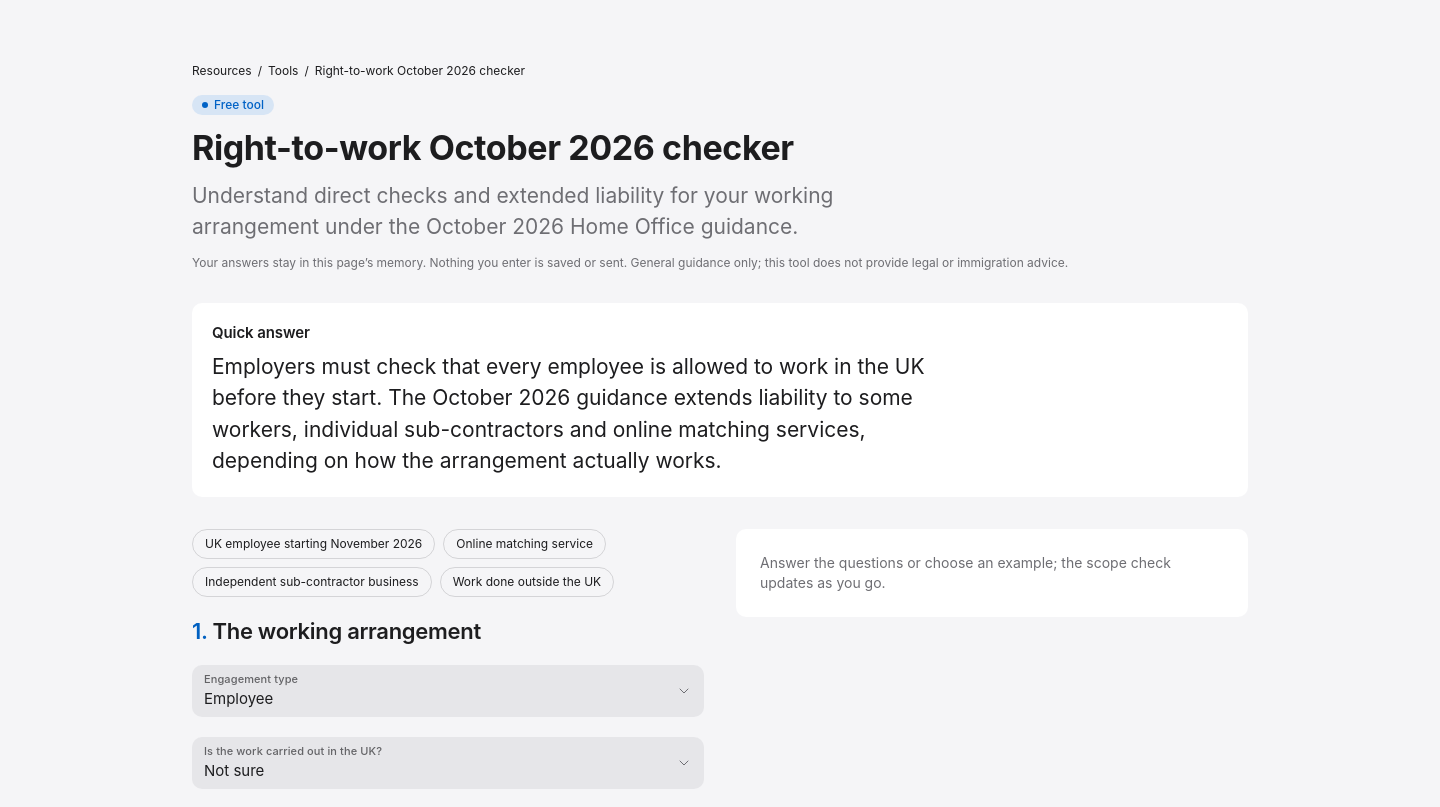
public right-to-work calculator › checks local answers without network or storage writes and resets
Select "Yes" in the dropdown labelled "Is the work carried out in the UK?" at x=448, y=763, box 192,737 -> 704,789
(page scrolled)
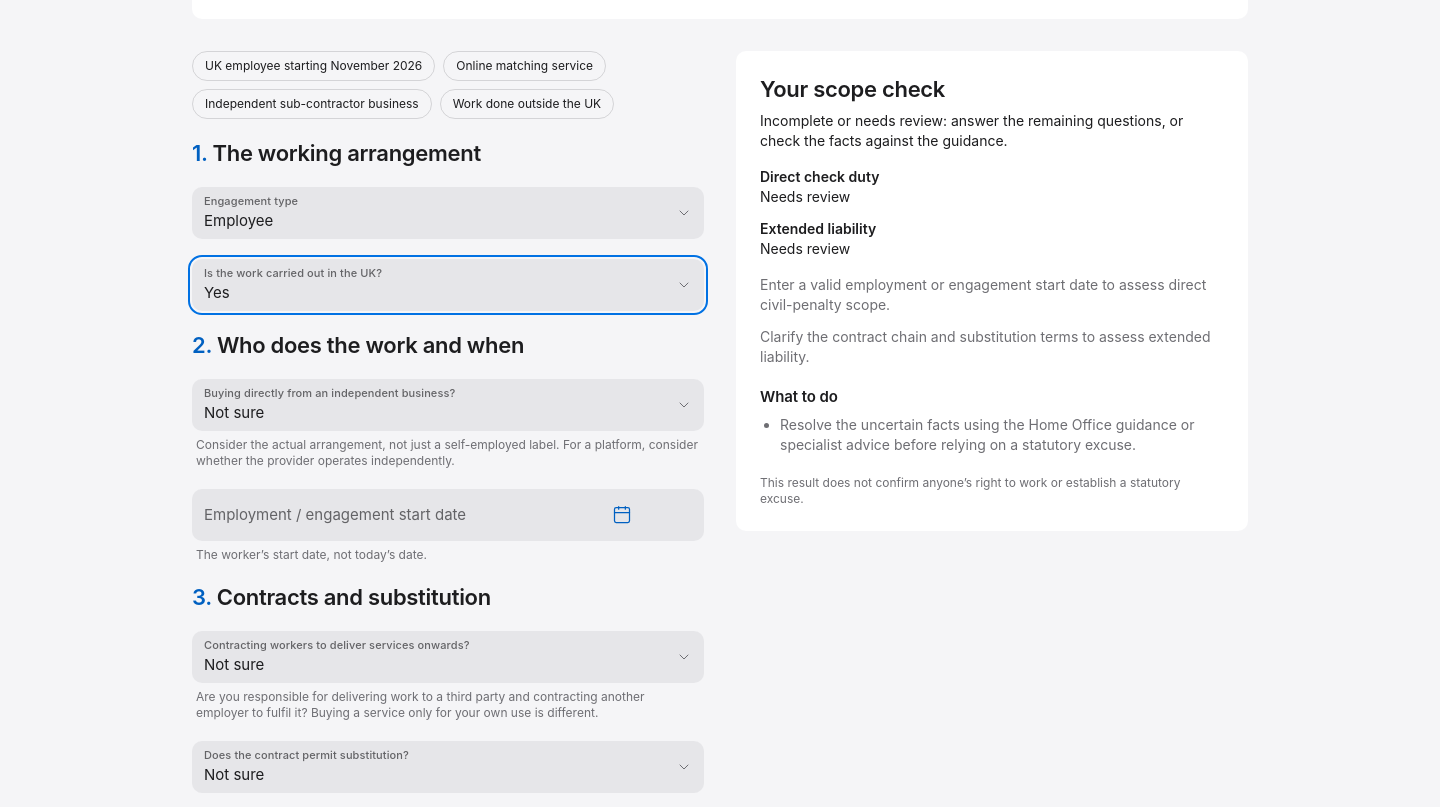
Select "No" in the dropdown labelled "Buying directly from an independent business?" at x=448, y=405, box 192,379 -> 704,431
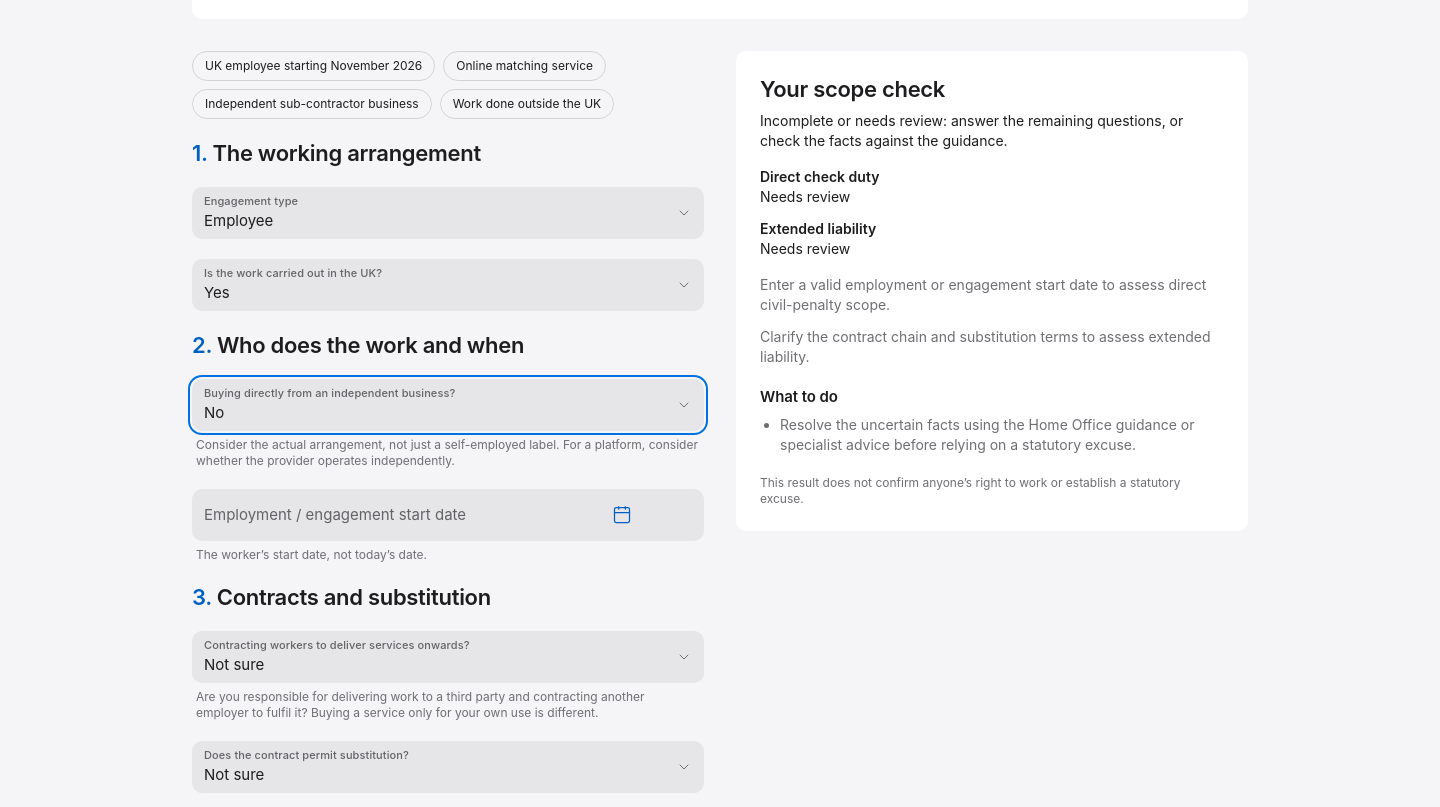
Type "2026-10-01" into the field labelled "Employment / engagement start date".
click(398, 515); type("2026-10-01")  # box 204,489 -> 592,541
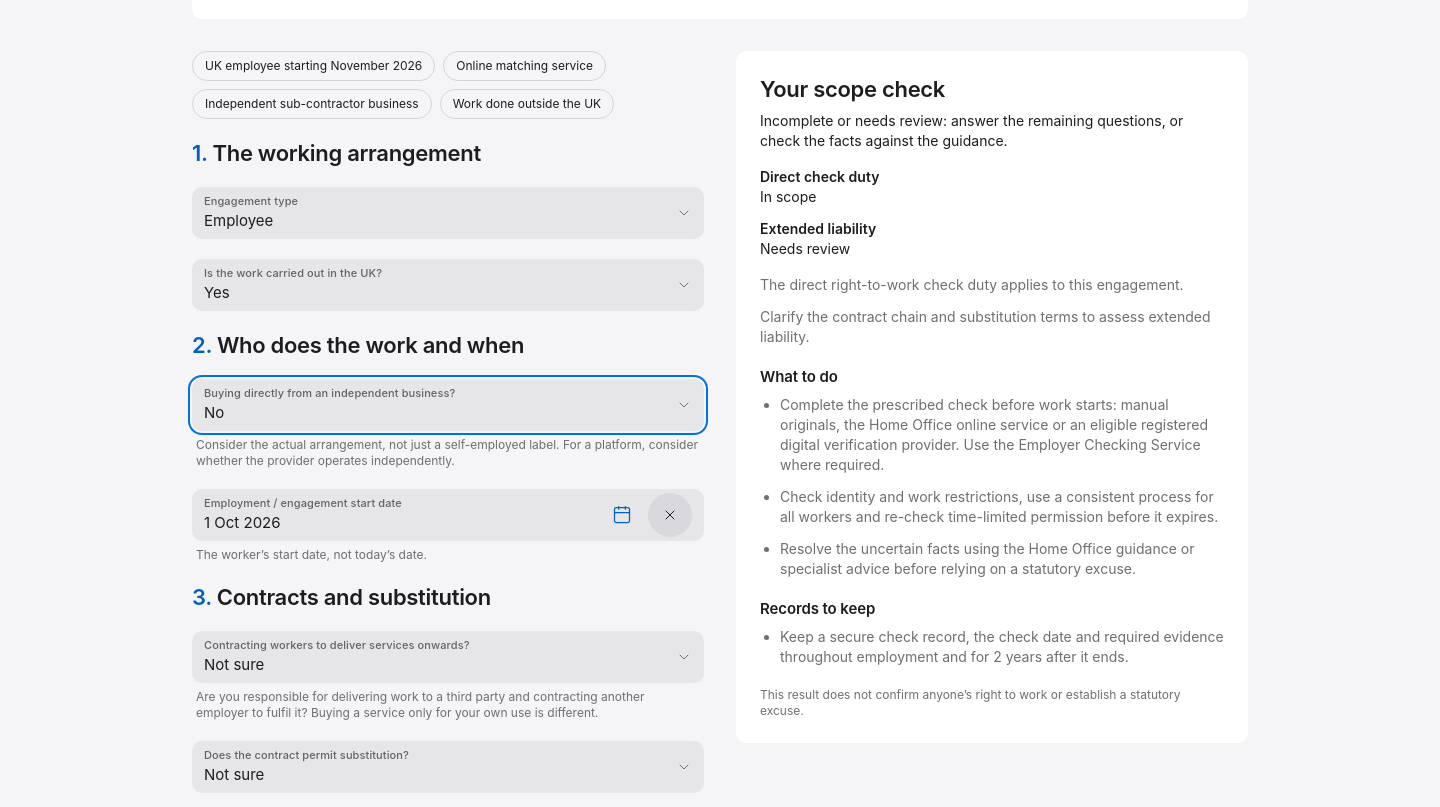
Select "No" in the dropdown labelled "Contracting workers to deliver services onwards?" at x=448, y=657, box 192,631 -> 704,683
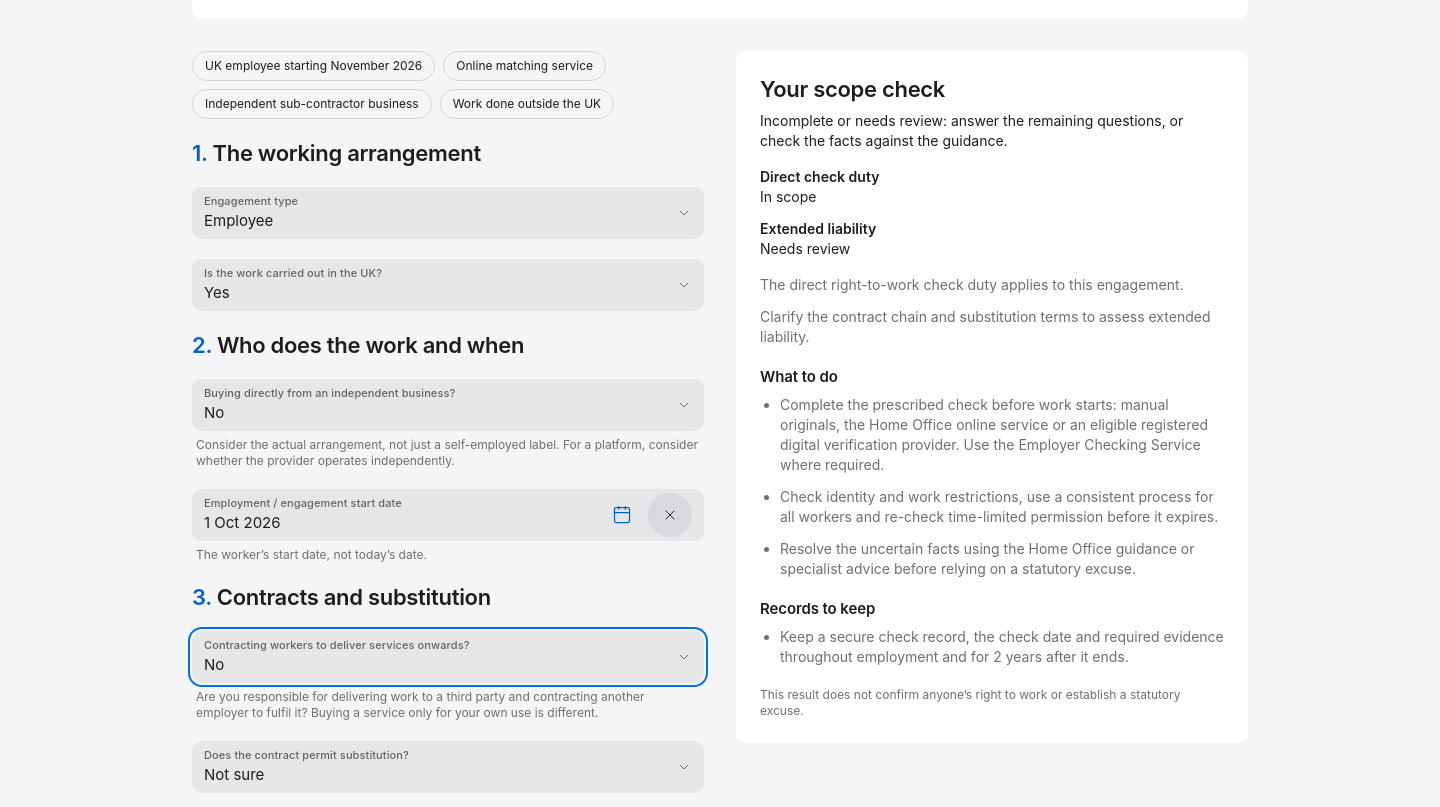
Select "No" in the dropdown labelled "Does the contract permit substitution?" at x=448, y=767, box 192,741 -> 704,793
(page scrolled)
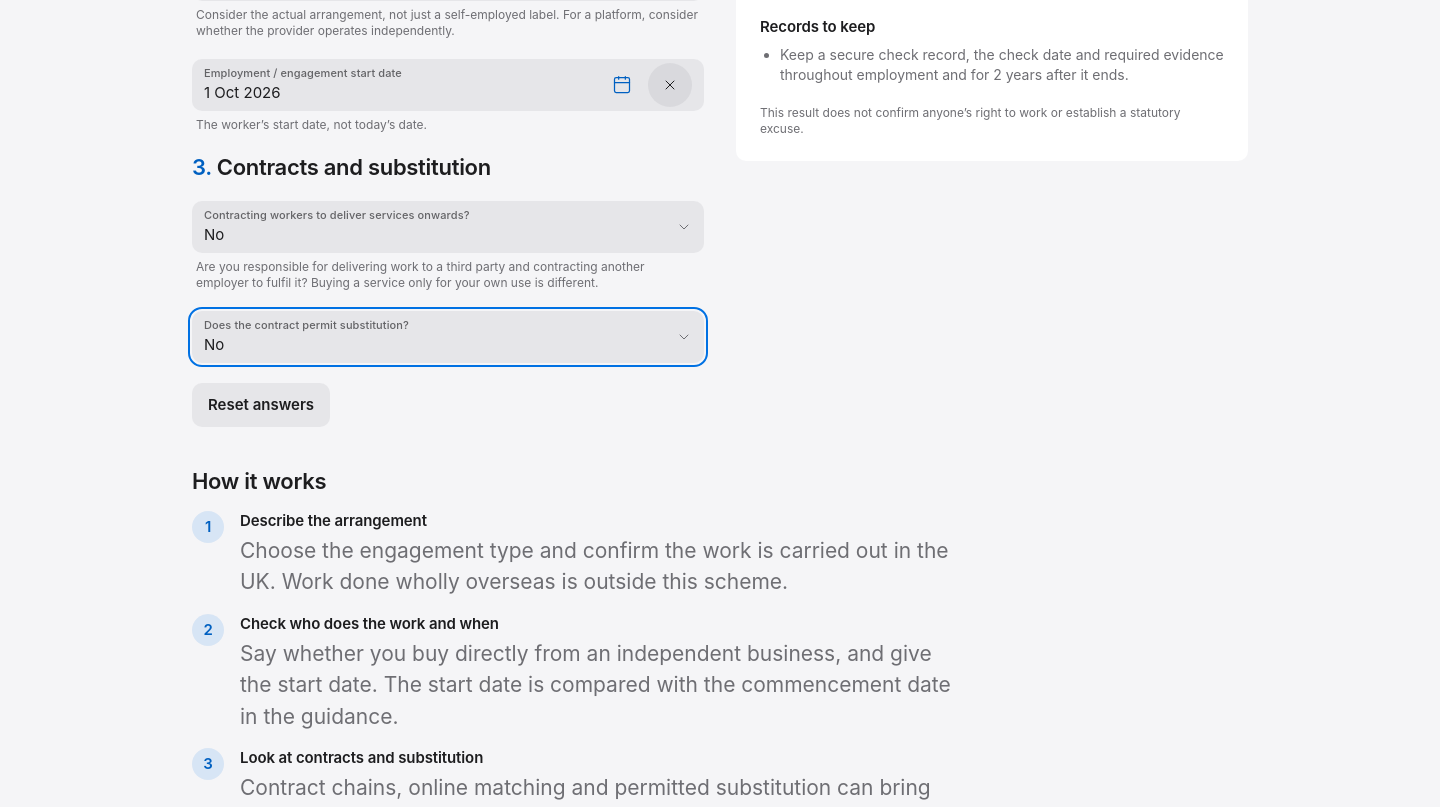
Click the button "Reset answers".
click(261, 405)  # box 192,383 -> 330,427
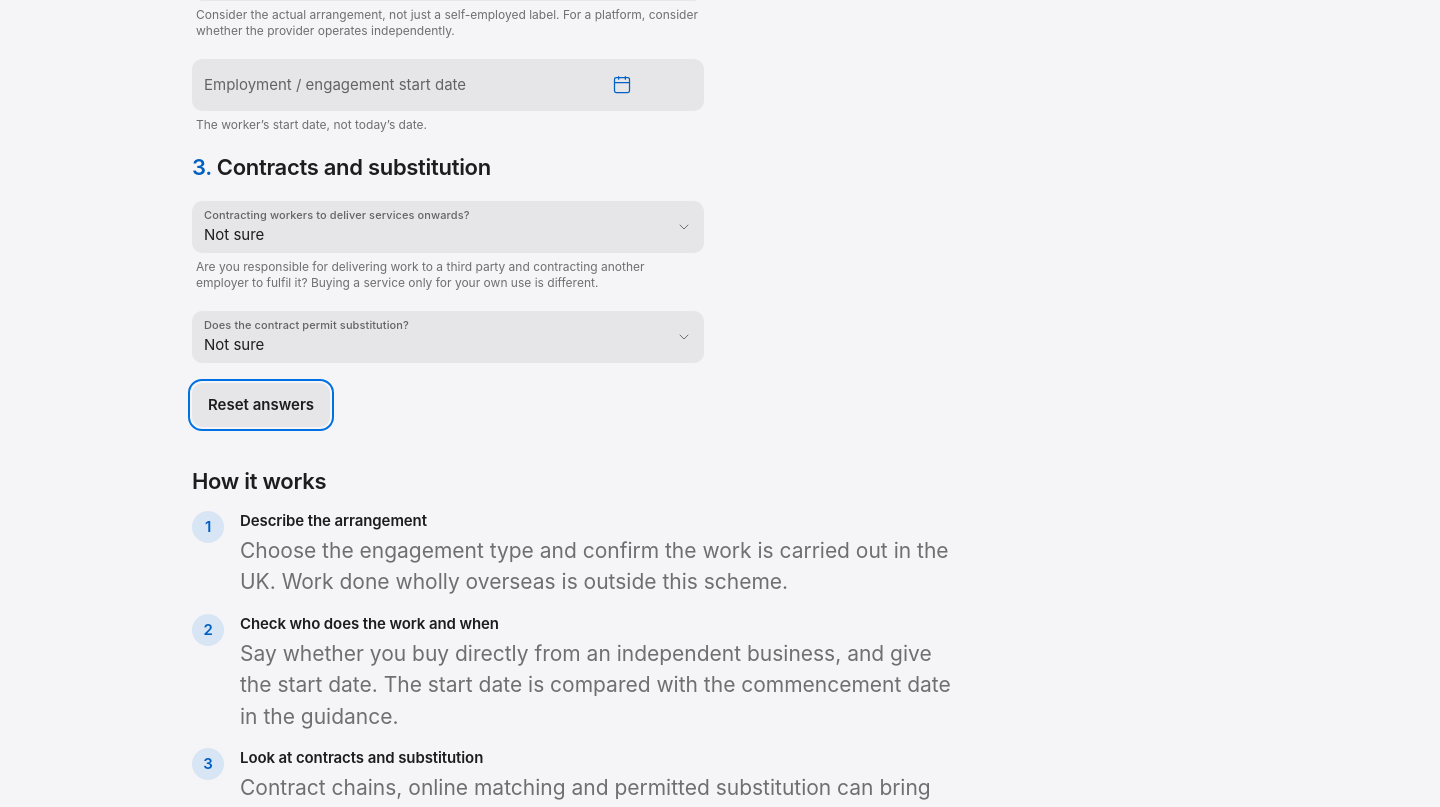
expect the field labelled "Employment / engagement start date" is empty: met, box 204,59 -> 592,111
